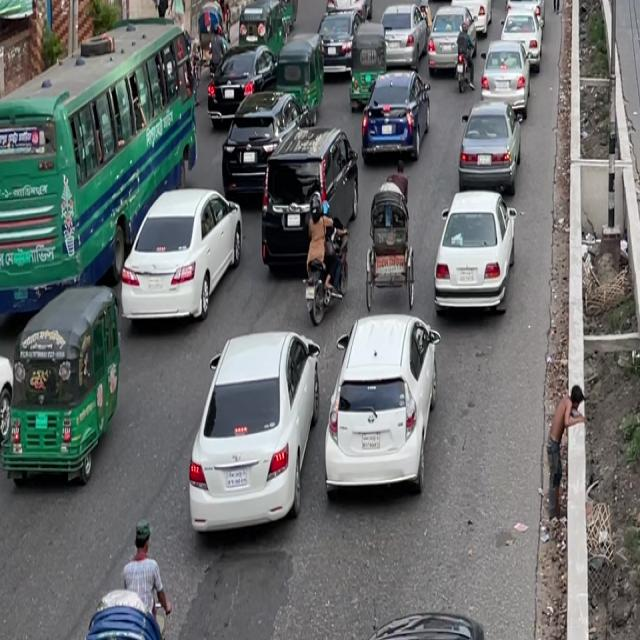bus: (46, 13, 200, 259)
car: (175, 313, 329, 549), (314, 300, 448, 513), (108, 165, 250, 341), (427, 175, 522, 332), (358, 63, 429, 173), (219, 92, 288, 204), (205, 33, 277, 133), (454, 93, 521, 199), (477, 35, 534, 121), (315, 0, 365, 80), (424, 5, 468, 84), (376, 0, 424, 72), (499, 0, 544, 69), (449, 0, 494, 40), (506, 0, 546, 6)
rickshaw: (0, 270, 129, 498), (274, 34, 325, 127), (350, 26, 384, 105), (427, 0, 460, 6)
